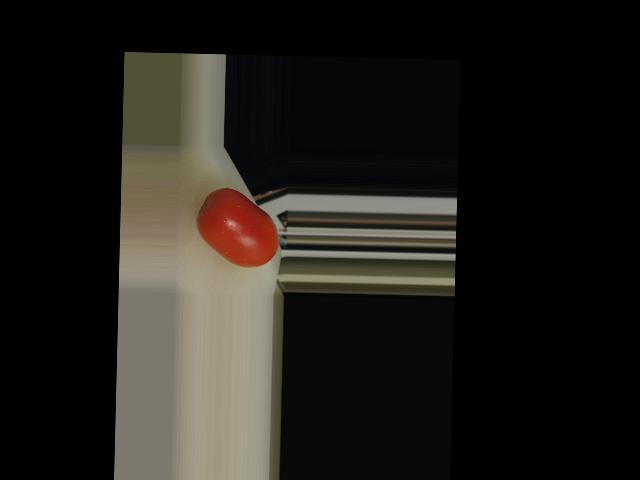tomato: (195, 187, 280, 268)
